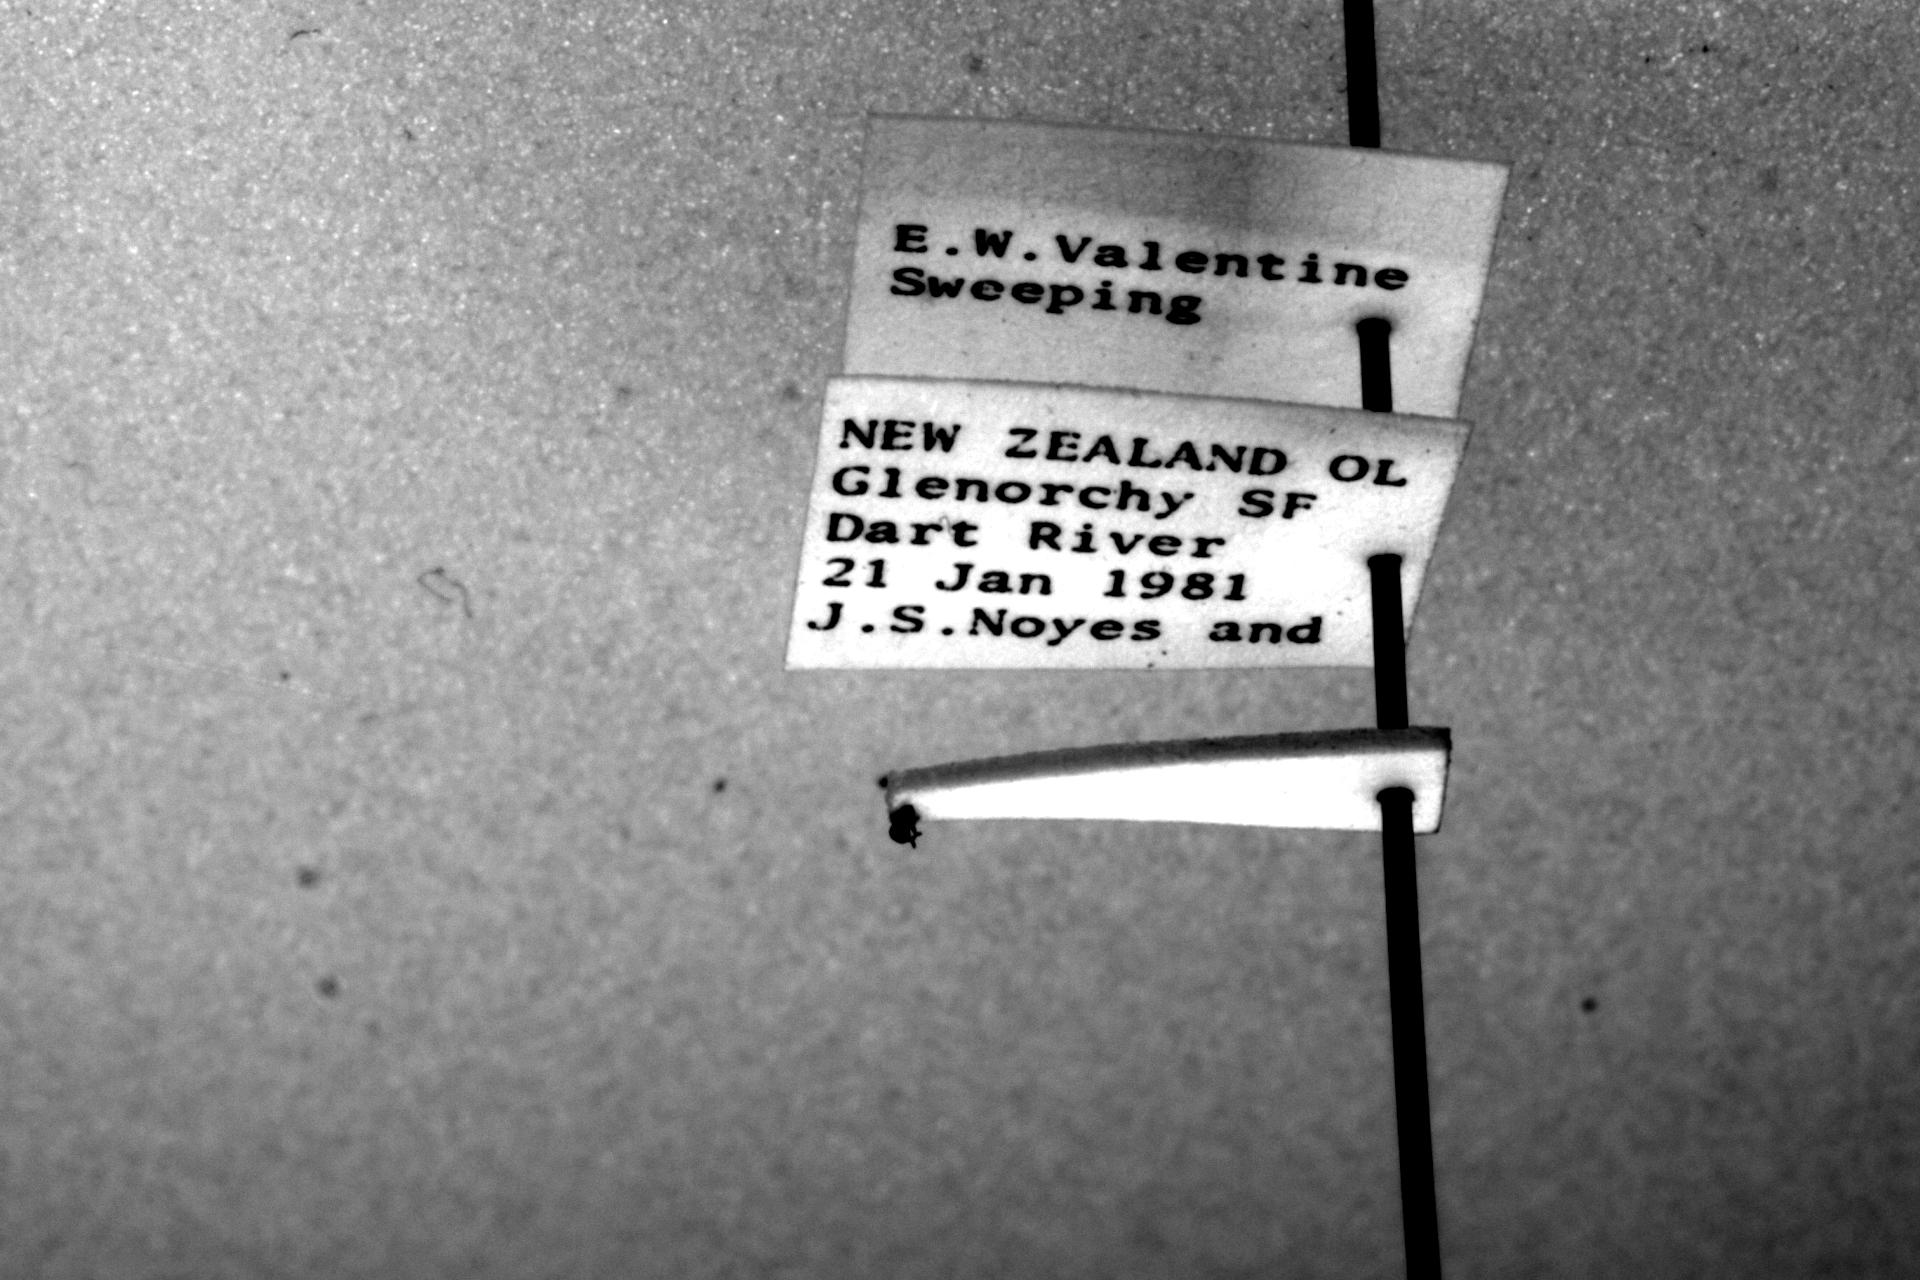typed_label: (844, 116, 1507, 420), (787, 374, 1470, 667)
